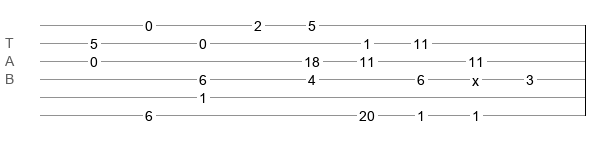0: (90, 54, 98, 64), (145, 18, 153, 28), (199, 36, 207, 46)
1: (199, 90, 207, 100), (363, 36, 371, 46), (417, 108, 425, 118), (472, 108, 480, 118)
11: (359, 54, 375, 64), (413, 36, 429, 46), (468, 54, 484, 64)
18: (304, 54, 320, 64)
2: (254, 18, 262, 28)
20: (359, 108, 375, 118)
3: (526, 72, 534, 82)
4: (308, 72, 316, 82)
5: (90, 36, 98, 46), (308, 18, 316, 28)
6: (145, 108, 153, 118), (199, 72, 207, 82), (417, 72, 425, 82)
x: (472, 73, 479, 81)
